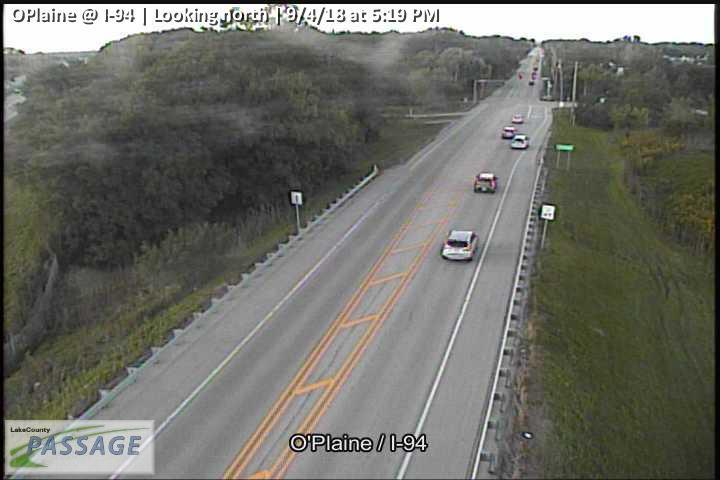SUV: (441, 230, 479, 262), (474, 172, 496, 192), (511, 134, 529, 149), (502, 126, 514, 139)
Sedan: (511, 113, 522, 123)
